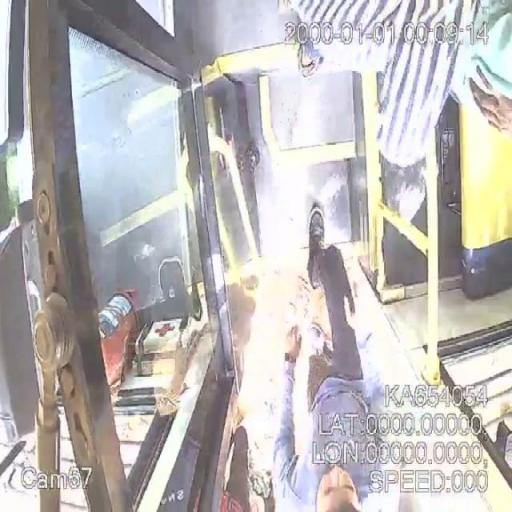persona: (270, 204, 390, 510)
